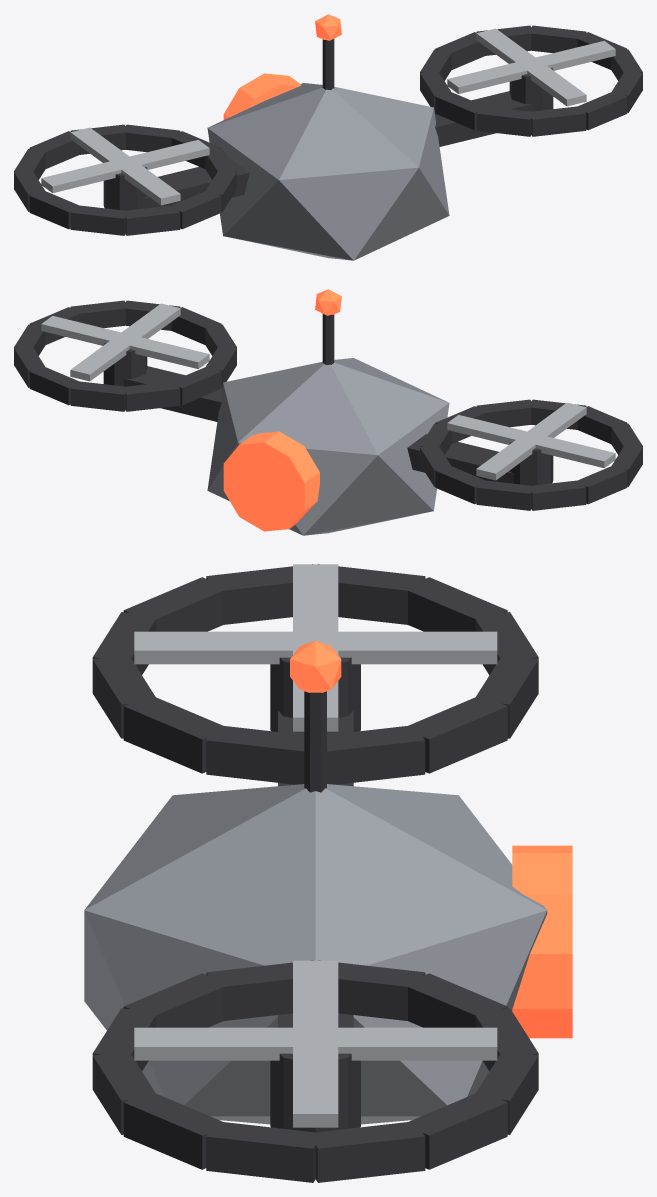
File: drone.glb
3 views of the same model, one above another, from view 1: azimuth 30°, elevation 25°; view 2: azimuth 150°, elevation 25°; view 3: azimuth 270°, elevation 25° (orthographic). The views are drawn at different scales.
Parts seen in each view (by area): view 1: DroneBody, RotorL, RotorR; view 2: DroneBody, RotorL, RotorR; view 3: DroneBody, RotorR, RotorL.
Part boxes in pixels (box(x1,y1,x2,y2)): DroneBody: box(14, 14, 642, 260); RotorL: box(41, 127, 209, 205); RotorR: box(447, 28, 615, 106); DroneBody: box(14, 289, 642, 535); RotorL: box(447, 402, 615, 480); RotorR: box(41, 303, 209, 381); DroneBody: box(84, 564, 572, 1182); RotorR: box(134, 960, 497, 1127); RotorL: box(134, 564, 497, 731).
Bounding box in the file's own units: 1.83 × 0.712 × 0.6462.
